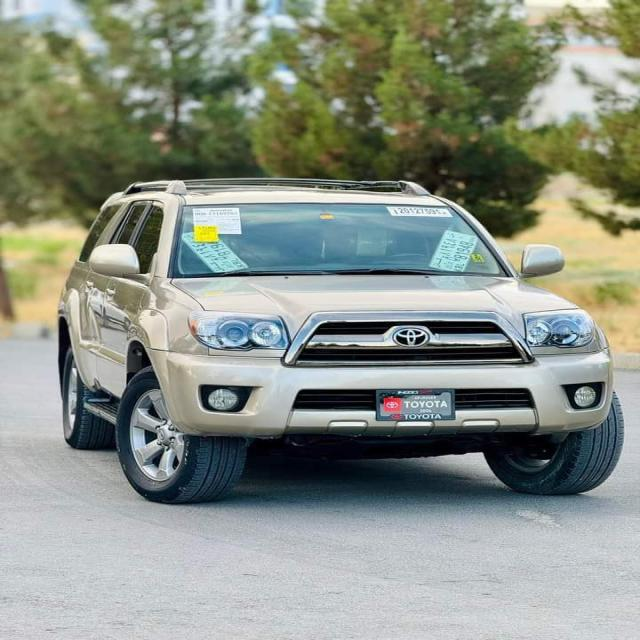Plate: (430, 230, 479, 273)
